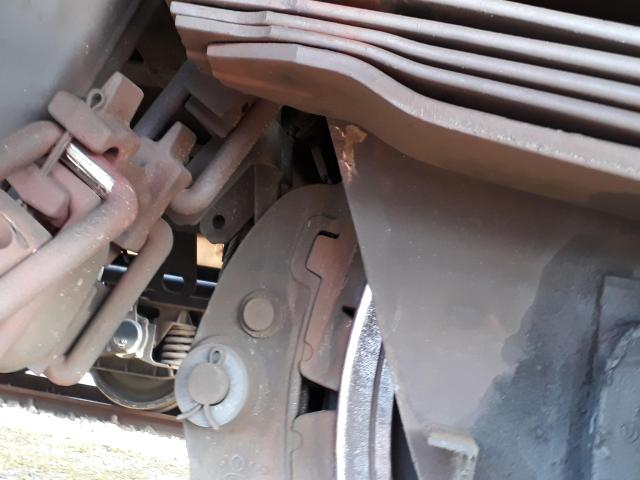blattfederww: (121, 4, 640, 163)
